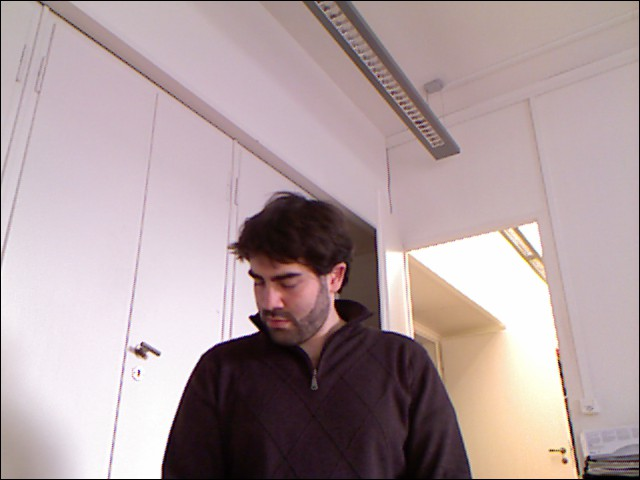deflection: (188, 199, 438, 480)
